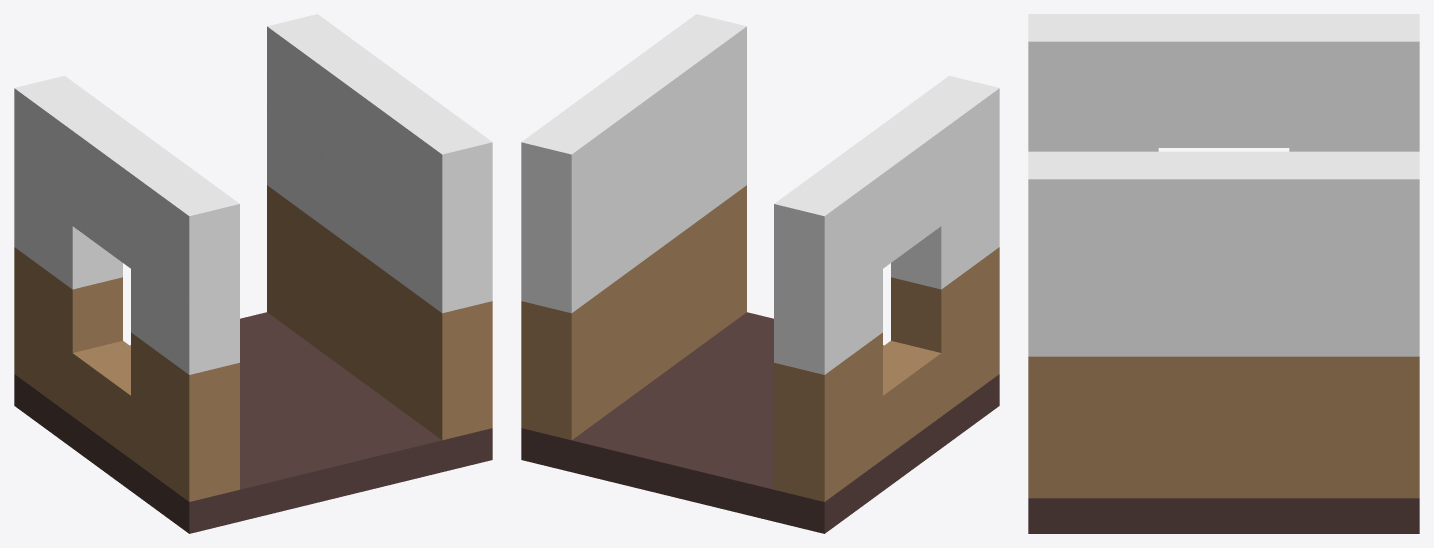
Rendered from corridor_window.FBX.
3 views of the same model, side by side, from view 1: azimuth 30°, elevation 25°; view 2: azimuth 150°, elevation 25°; view 3: azimuth 270°, elevation 25° (orthographic). The views are drawn at different scales.
Visible parts, largest first — view 1: Object260; view 2: Object260; view 3: Object260.
Boxes of the visible parts, x1,y1,x2,y2 form: Object260: (14,14,492,533); Object260: (521,14,999,533); Object260: (1028,14,1419,533).
Bounding box in the file's own units: 100 × 100 × 100.
